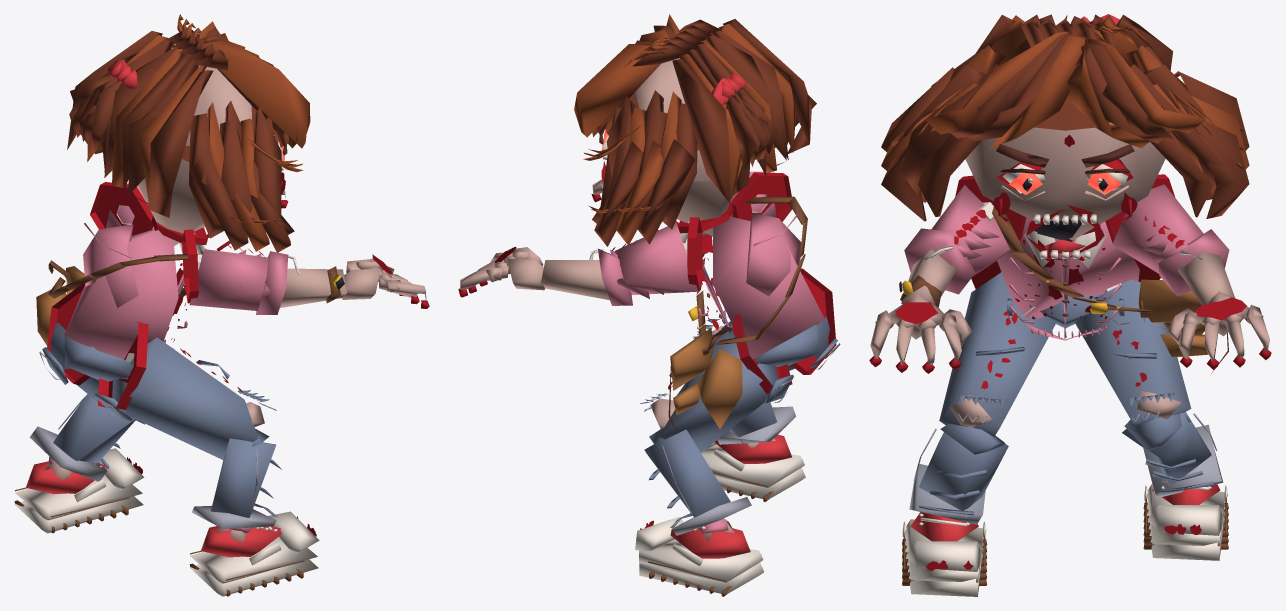
The picture shows the model from 3 angles, left to right: view 1: azimuth 30°, elevation 25°; view 2: azimuth 150°, elevation 25°; view 3: azimuth 270°, elevation 25°; orthographic projection. The views are drawn at different scales.
Parts seen in each view (by area): view 1: head, torso, legR, footR, footL, armR, shinR, shinL, hip, handR, foreArmR, stump_armL (+4 smaller); view 2: head, torso, footL, hip, armL, shinL, legL, footR, handL, foreArmL, shinR, stump_armR (+4 smaller); view 3: head, legR, torso, legL, shinR, footR, armL, footL, shinL, armR, handR, handL (+5 smaller).
Boxes of the visible parts, x1,y1,x2,y2 form: head: (67,14,310,252); torso: (48,223,205,359); legR: (94,337,276,460); footR: (189,511,319,596); footL: (14,448,144,533); armR: (189,243,299,314); shinR: (191,429,281,528); shinL: (29,394,144,481); hip: (36,260,174,381); handR: (342,254,429,308); foreArmR: (280,266,346,307); stump_armL: (90,182,153,235); head: (574,14,816,246); torso: (680,196,824,359); footL: (635,516,763,596); hip: (668,324,819,431); armL: (588,222,698,305); shinL: (644,429,751,535); legL: (640,331,794,452); footR: (701,434,805,501); handL: (458,246,544,297); foreArmL: (541,260,609,300); shinR: (717,402,795,444); stump_armR: (730,172,792,221); head: (881,14,1249,260); legR: (939,272,1056,436); torso: (992,206,1153,340); legL: (1074,279,1191,426); shinR: (909,423,1008,524); footR: (902,512,987,596); armL: (1112,184,1229,296); footL: (1143,481,1228,560); shinL: (1122,412,1223,498); armR: (904,184,1020,294); handR: (869,294,972,373); handL: (1167,291,1271,369).
Bounding box in the file's own units: 1.08 × 1.8 × 1.19.
